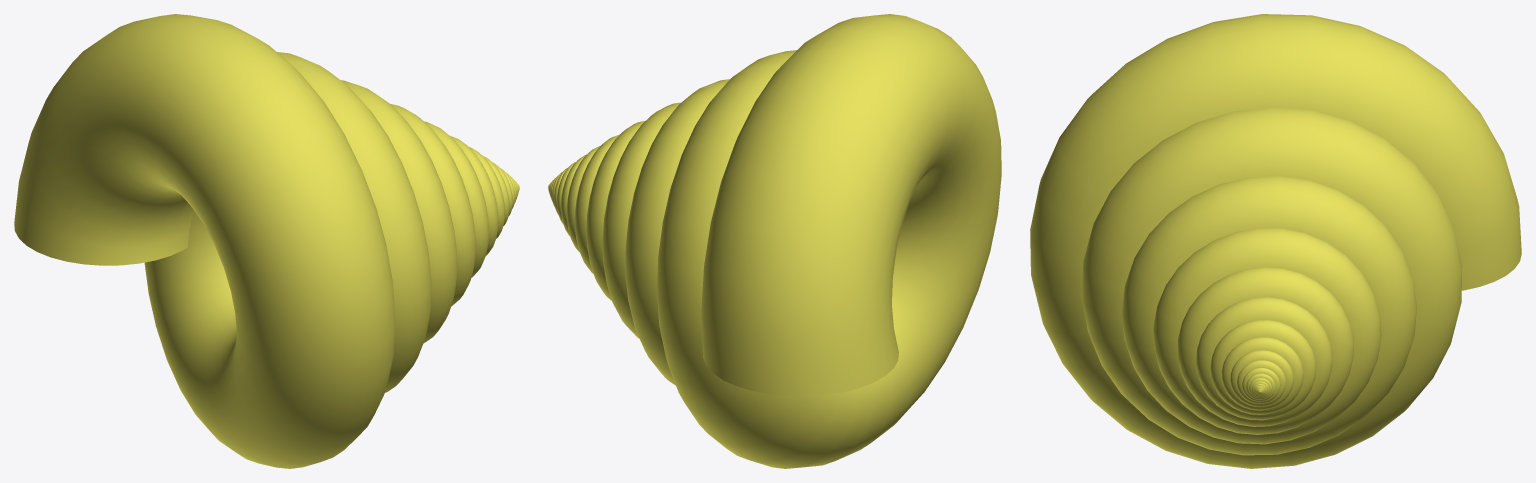
3 renders of one model, left to right at view 1: azimuth 30°, elevation 25°; view 2: azimuth 150°, elevation 25°; view 3: azimuth 270°, elevation 25°, orthographic. The views are drawn at different scales.
Parts seen in each view (by area): view 1: t32; view 2: t32; view 3: t32.
Boxes of the visible parts, bbox=[...] form: t32: bbox=[14, 14, 519, 468]; t32: bbox=[548, 14, 1001, 468]; t32: bbox=[1030, 14, 1521, 468].
Bounding box in the file's own units: 500 × 491 × 522.
